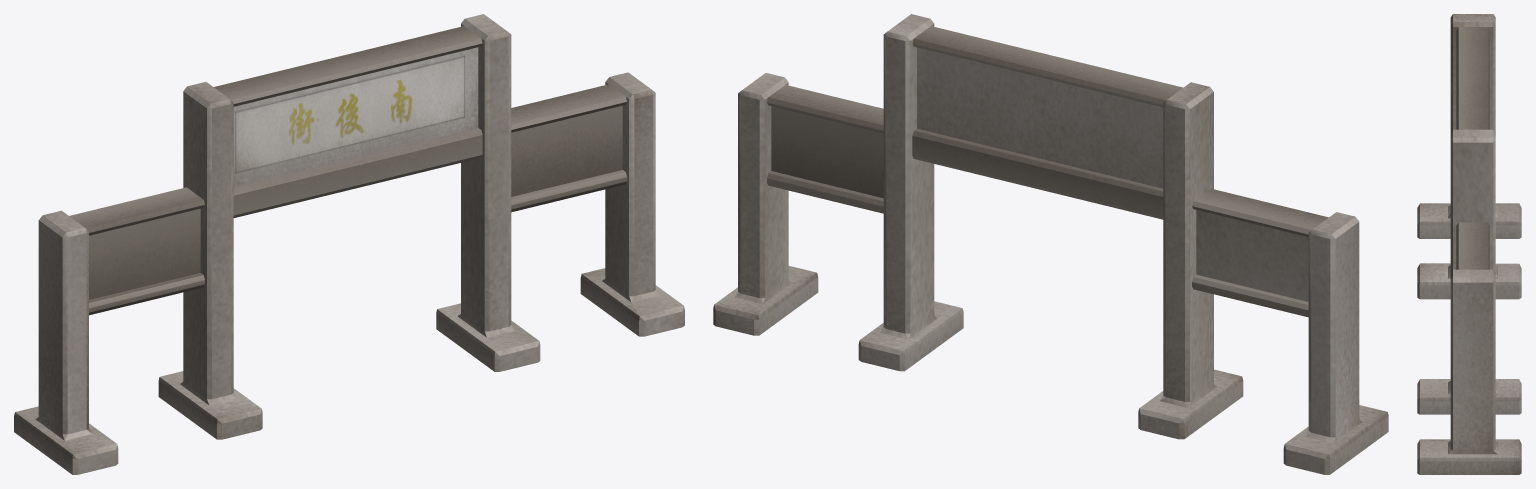
The model's file is Main door street.fbx.
3 views of the same model, side by side, from view 1: azimuth 30°, elevation 25°; view 2: azimuth 150°, elevation 25°; view 3: azimuth 270°, elevation 25° (orthographic). The views are drawn at different scales.
Visible parts, largest first — view 1: Cube.001; view 2: Cube.001; view 3: Cube.001.
Boxes of the visible parts, <box> form: Cube.001: <box>14,14,684,474</box>; Cube.001: <box>713,14,1388,474</box>; Cube.001: <box>1417,14,1521,474</box>.
Bounding box in the file's own units: 24.69 × 12.27 × 4.27.
